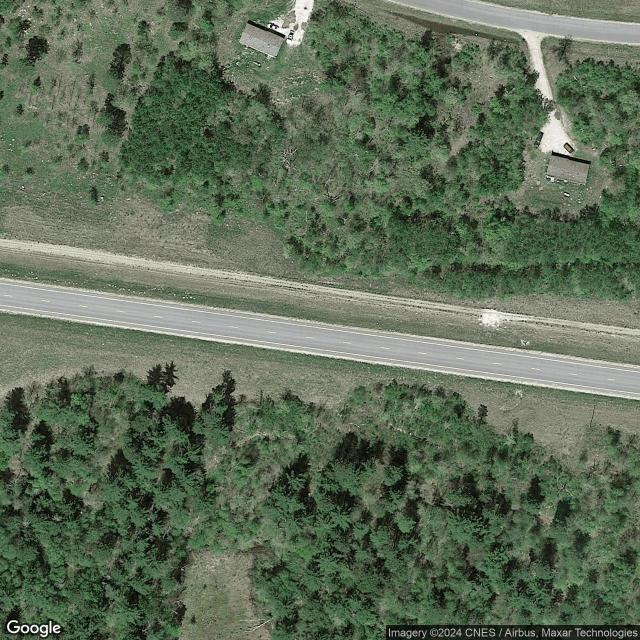Propane: (252, 60, 263, 68), (562, 190, 571, 198)
